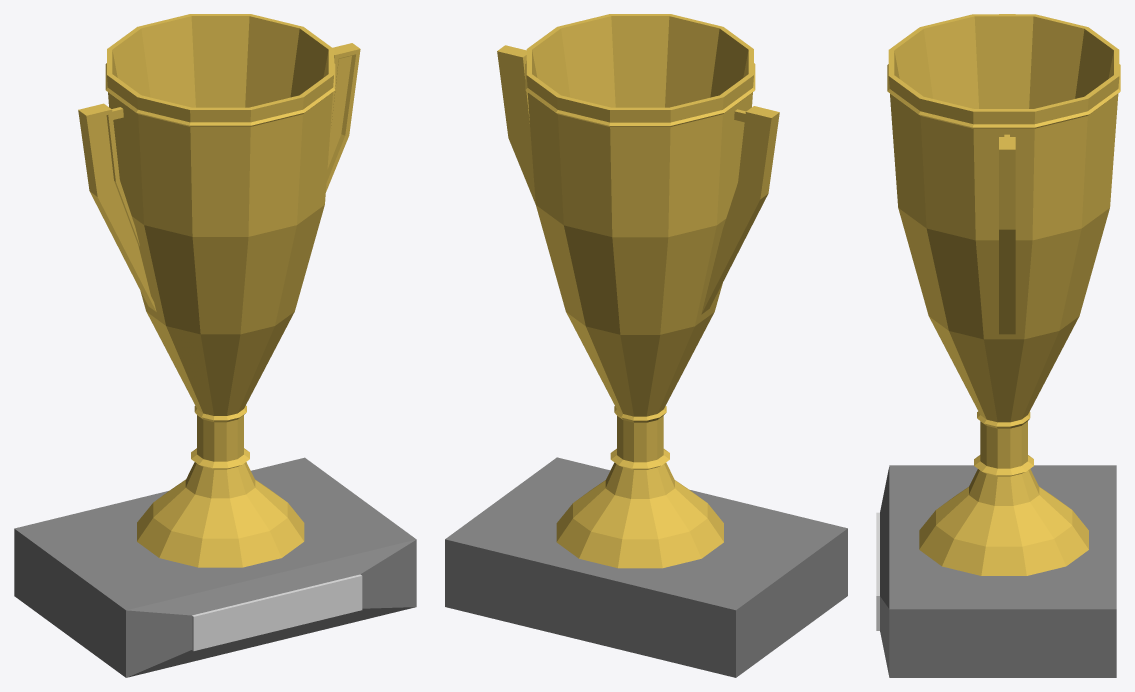
Rendered from Trophy.gltf.
3 renders of one model, left to right at view 1: azimuth 30°, elevation 25°; view 2: azimuth 150°, elevation 25°; view 3: azimuth 270°, elevation 25°, orthographic.
Visible parts, largest first — view 1: Trophy; view 2: Trophy; view 3: Trophy.
Part boxes in pixels (x1,y1,x2,y2): Trophy: (14, 14, 416, 677); Trophy: (445, 14, 847, 677); Trophy: (876, 14, 1120, 677).
Size of the model in its own units: 0.1652 by 0.2923 by 0.1187.
Materials: 1 (1 with a texture image).
